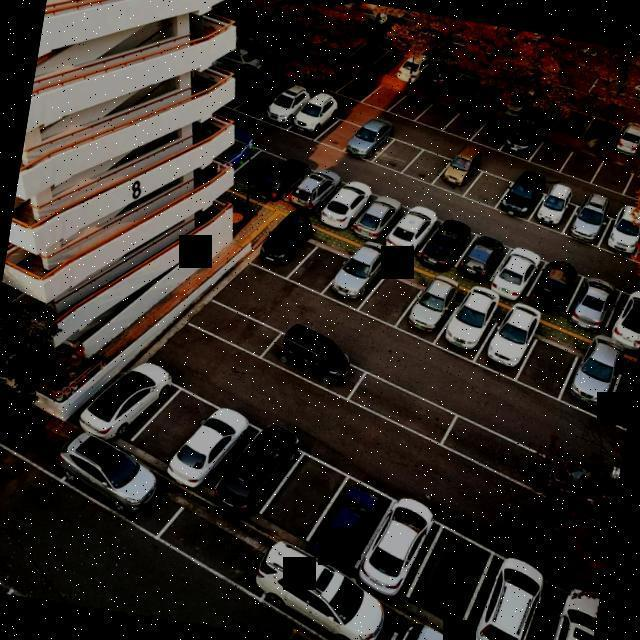car: (249, 548, 407, 640), (148, 496, 284, 602), (54, 432, 180, 534), (246, 323, 380, 395), (314, 468, 391, 574), (362, 494, 436, 602), (221, 422, 295, 526), (88, 354, 168, 450), (468, 552, 554, 640), (183, 400, 246, 510), (482, 298, 548, 389), (566, 334, 622, 429), (243, 212, 317, 280), (446, 282, 504, 368), (414, 208, 481, 280), (332, 239, 387, 321), (405, 270, 458, 352), (563, 270, 625, 340), (486, 241, 558, 301), (345, 187, 412, 250), (452, 230, 514, 292), (254, 150, 314, 210), (322, 177, 382, 237), (386, 202, 446, 262), (524, 258, 584, 318), (535, 587, 600, 640), (280, 96, 344, 148), (562, 198, 619, 253), (338, 120, 397, 173), (428, 150, 486, 203), (264, 78, 316, 136), (292, 162, 342, 221), (496, 175, 548, 228), (531, 186, 580, 242), (605, 281, 640, 359), (500, 118, 548, 165), (600, 210, 640, 265), (390, 625, 533, 640), (415, 54, 462, 98), (552, 103, 598, 146), (393, 46, 435, 90), (581, 116, 623, 154)
free: (434, 417, 564, 487), (346, 370, 466, 442), (410, 530, 490, 632), (268, 440, 344, 544), (128, 378, 204, 476), (0, 391, 69, 481), (190, 290, 274, 358), (518, 322, 578, 410), (364, 254, 422, 334), (293, 238, 352, 304), (233, 137, 286, 200), (230, 71, 292, 123), (365, 130, 426, 180), (310, 111, 369, 161), (465, 165, 517, 218), (406, 144, 454, 189), (360, 76, 408, 120), (527, 133, 576, 176), (555, 148, 607, 188), (468, 115, 520, 154), (589, 158, 638, 199), (438, 70, 487, 110), (342, 34, 388, 74), (418, 98, 462, 136), (314, 61, 358, 98), (444, 105, 488, 142), (605, 120, 640, 164), (341, 71, 382, 108), (366, 42, 407, 79), (393, 90, 432, 126)
